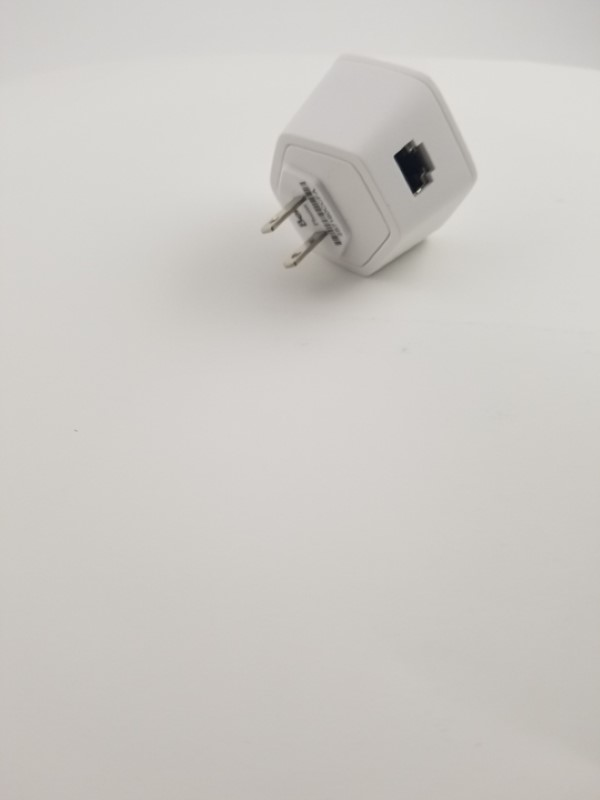pod: (259, 44, 486, 289)
